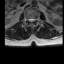CCS_normal: (30, 16, 32, 24)
LFS_normal: (35, 17, 37, 22)
LLS_normal: (32, 17, 34, 23)
RFS_normal: (26, 16, 28, 22)
RLS_normal: (28, 16, 30, 22)
